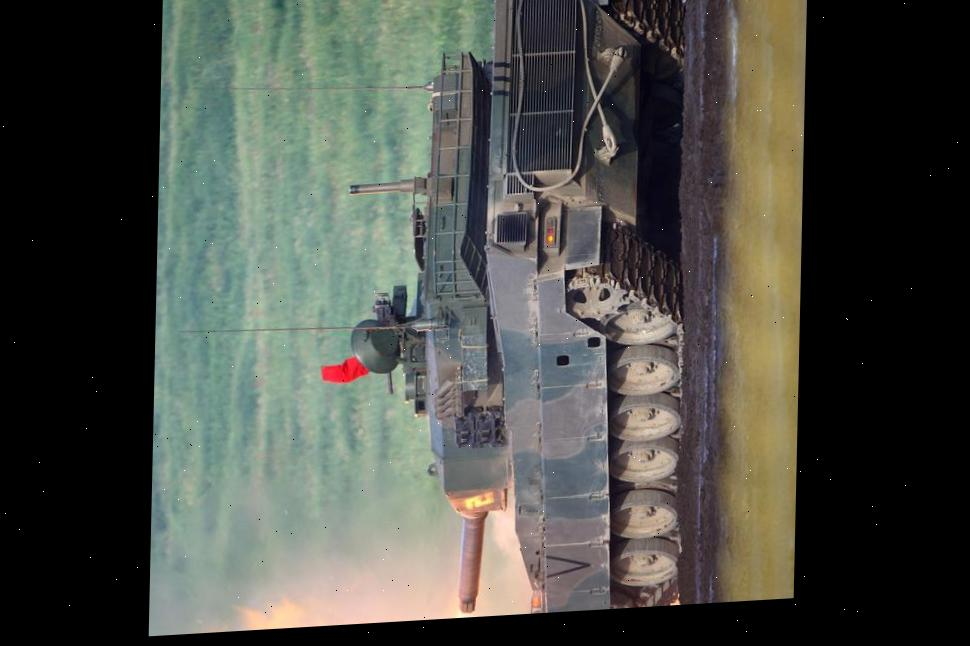tank: (308, 0, 693, 627)
